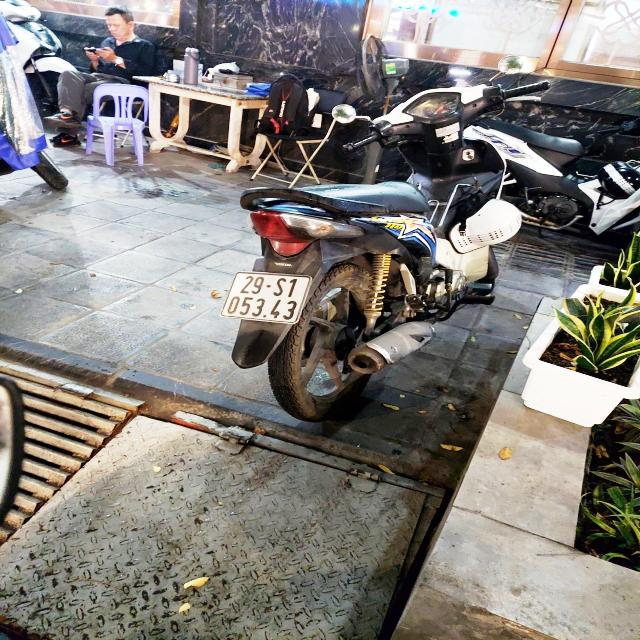license_plate: (223, 271, 314, 327)
